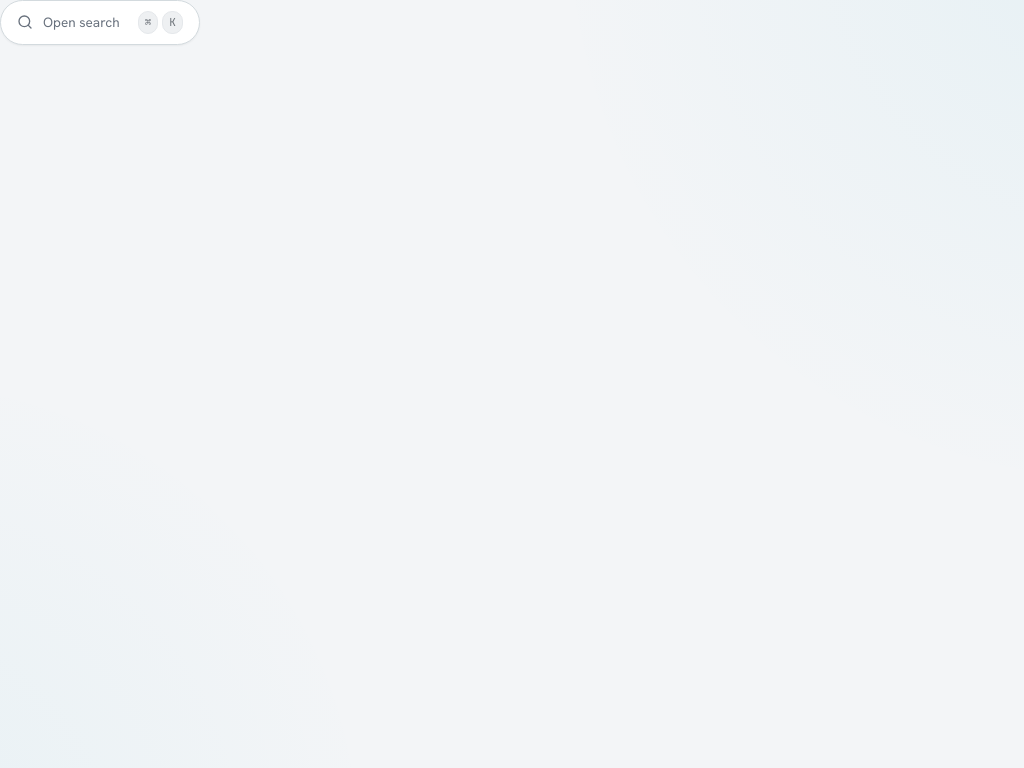
it: CommandPalette favorites (#231) › pins a starred item and surfaces it under Favorites on a blank query
Click the button "Open search ⌘ K".
click(100, 22)  # box [0,0,200,44]
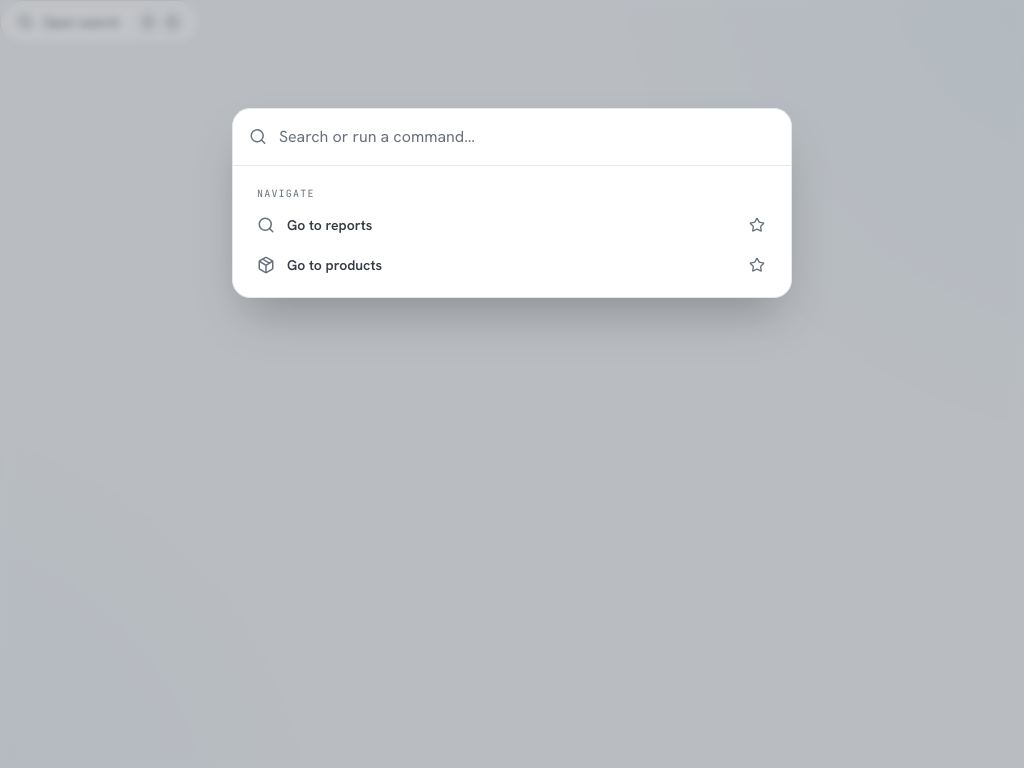
Expected: the text "Favorites" is not shown
Click the button named "Add to favorites: Go to reports".
click(757, 224)  # box [739,206,775,242]
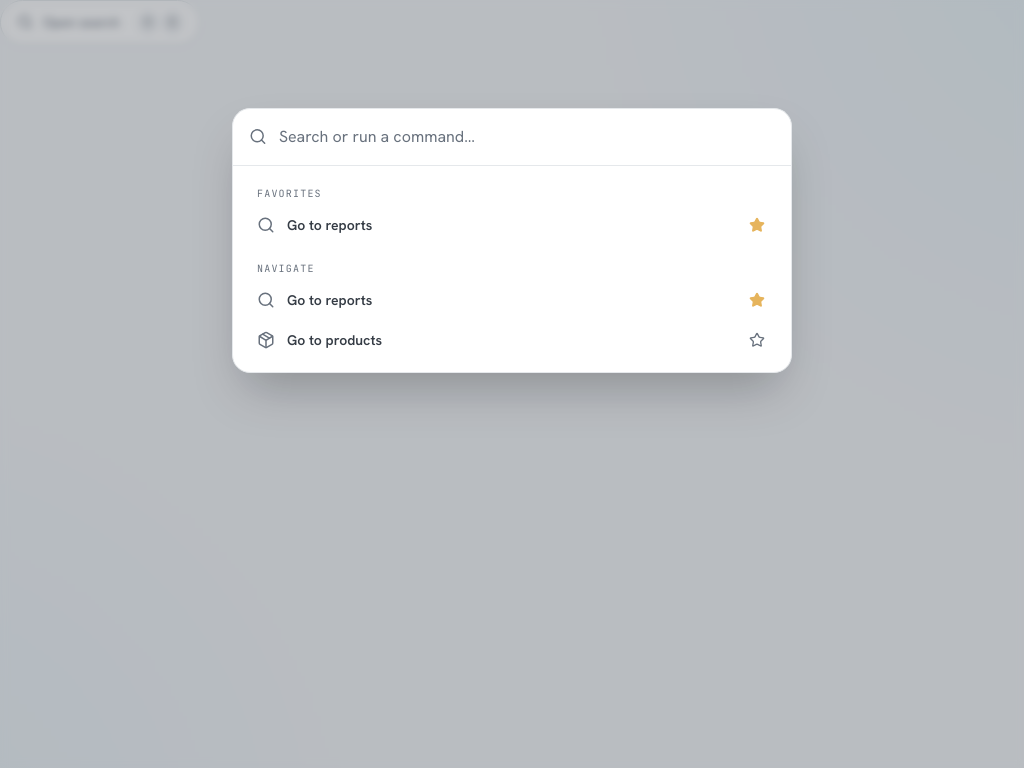
Expected: the text "Favorites" is shown, [257,186,322,200]
Expected: the number of options "Go to reports" is 2, [245,204,739,244]; [245,280,739,320]
